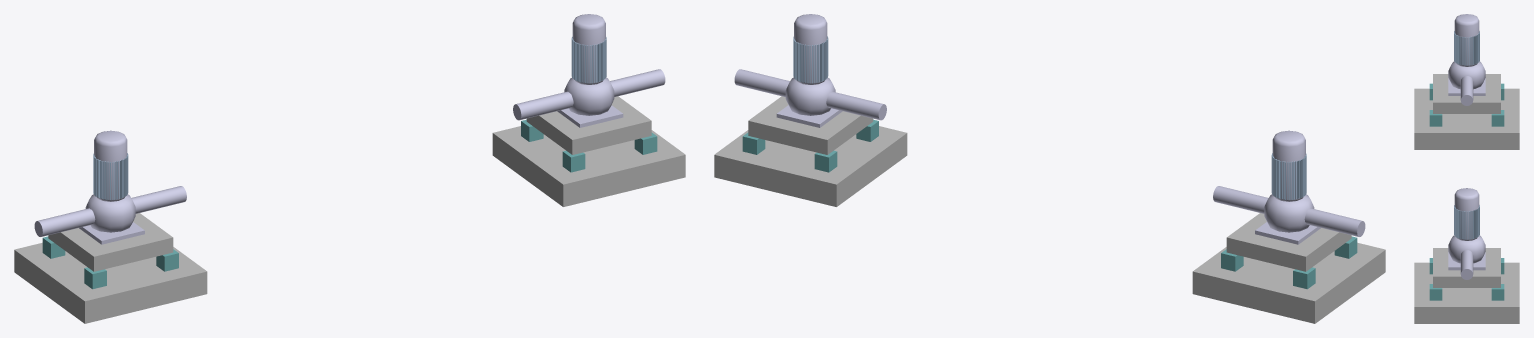
The model's file is hr_pump.gltf.
The picture shows the model from 3 angles, left to right: view 1: azimuth 30°, elevation 25°; view 2: azimuth 150°, elevation 25°; view 3: azimuth 270°, elevation 25°; orthographic projection. The views are drawn at different scales.
Visible parts, largest first — view 1: Box402, Box461, Box466, Box407, Cylinder543, Cylinder562, ChamferCyl008, ChamferCyl010, ChamferCyl007, ChamferCyl009, Box467, Box408; view 2: Box402, Box461, Box466, Box407, Cylinder543, Cylinder562, ChamferCyl008, ChamferCyl010, ChamferCyl007, ChamferCyl009, Box467, Box408; view 3: Box402, Box461, Box407, Box466, ChamferCyl010, ChamferCyl008, ChamferCyl007, ChamferCyl009, Cylinder543, Cylinder562, Box408, Box467 (+4 smaller).
Part boxes in pixels (<box>): Box402: <box>492,126,685,206</box>; Box461: <box>14,242,207,323</box>; Box466: <box>48,213,173,271</box>; Box407: <box>526,96,651,154</box>; Cylinder543: <box>513,69,665,120</box>; Cylinder562: <box>34,186,186,236</box>; ChamferCyl008: <box>572,14,605,84</box>; ChamferCyl010: <box>94,130,127,201</box>; ChamferCyl007: <box>564,77,614,115</box>; ChamferCyl009: <box>85,194,135,232</box>; Box467: <box>79,222,144,244</box>; Box408: <box>557,105,623,127</box>; Box402: <box>714,126,907,206</box>; Box461: <box>1192,242,1385,323</box>; Box466: <box>1226,213,1351,271</box>; Box407: <box>748,96,873,154</box>; Cylinder543: <box>734,69,886,120</box>; Cylinder562: <box>1213,186,1365,236</box>; ChamferCyl008: <box>794,14,827,84</box>; ChamferCyl010: <box>1272,130,1305,201</box>; ChamferCyl007: <box>785,77,835,115</box>; ChamferCyl009: <box>1264,194,1314,232</box>; Box467: <box>1255,222,1320,244</box>; Box408: <box>776,105,842,127</box>; Box402: <box>1414,262,1519,323</box>; Box461: <box>1414,88,1519,149</box>; Box407: <box>1433,248,1500,287</box>; Box466: <box>1433,74,1500,113</box>; ChamferCyl010: <box>1454,14,1479,66</box>; ChamferCyl008: <box>1454,188,1479,240</box>; ChamferCyl007: <box>1448,235,1485,263</box>; ChamferCyl009: <box>1448,61,1485,89</box>; Cylinder543: <box>1460,250,1473,279</box>; Cylinder562: <box>1460,76,1473,105</box>; Box408: <box>1448,252,1485,270</box>; Box467: <box>1448,78,1485,95</box>.
Bounding box in the file's own units: 41.27 × 9.31 × 8.12.
4 materials, 4 textured.
